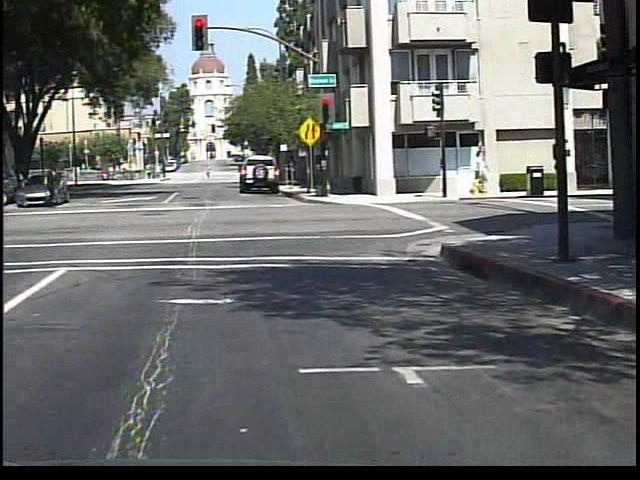person: (7, 168, 32, 221), (43, 165, 67, 210), (207, 164, 218, 181)
